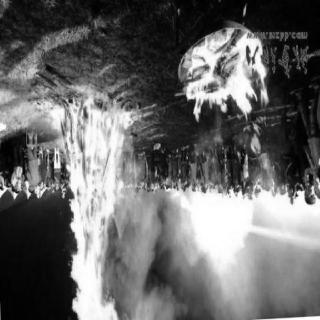Fire: (54, 89, 146, 319), (167, 10, 285, 132)
other: (165, 181, 271, 283)
